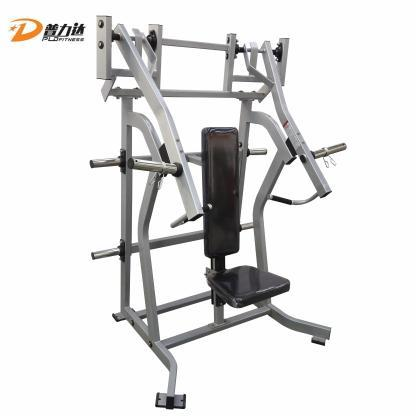Chest Press machine: (69, 12, 353, 415)
